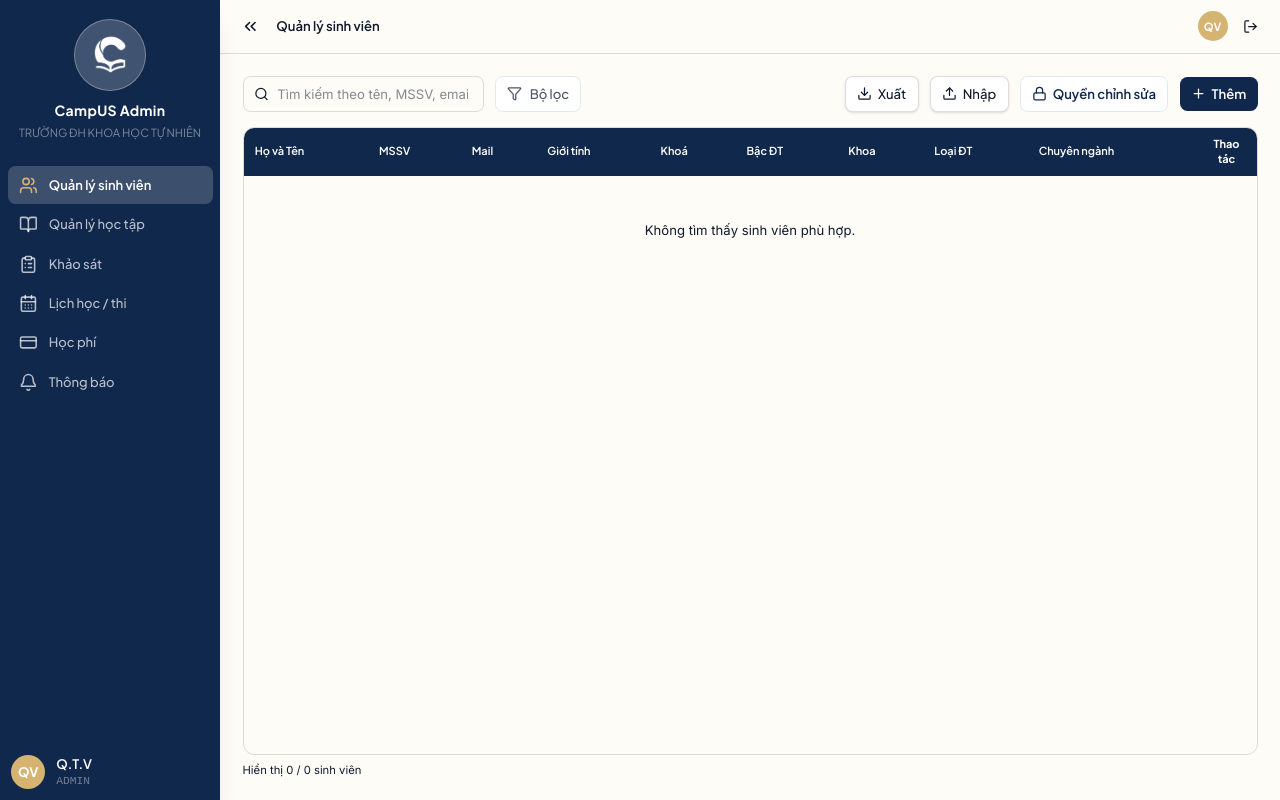
Unit Test: Admin Tuition Management (UC 2.23) › [TC_2.23_01]: Verify Tuition Statistics rendering
The image size is (1280, 800).
Click the button "Học phí": (110, 343) top-left (8, 324), bottom-right (212, 361)
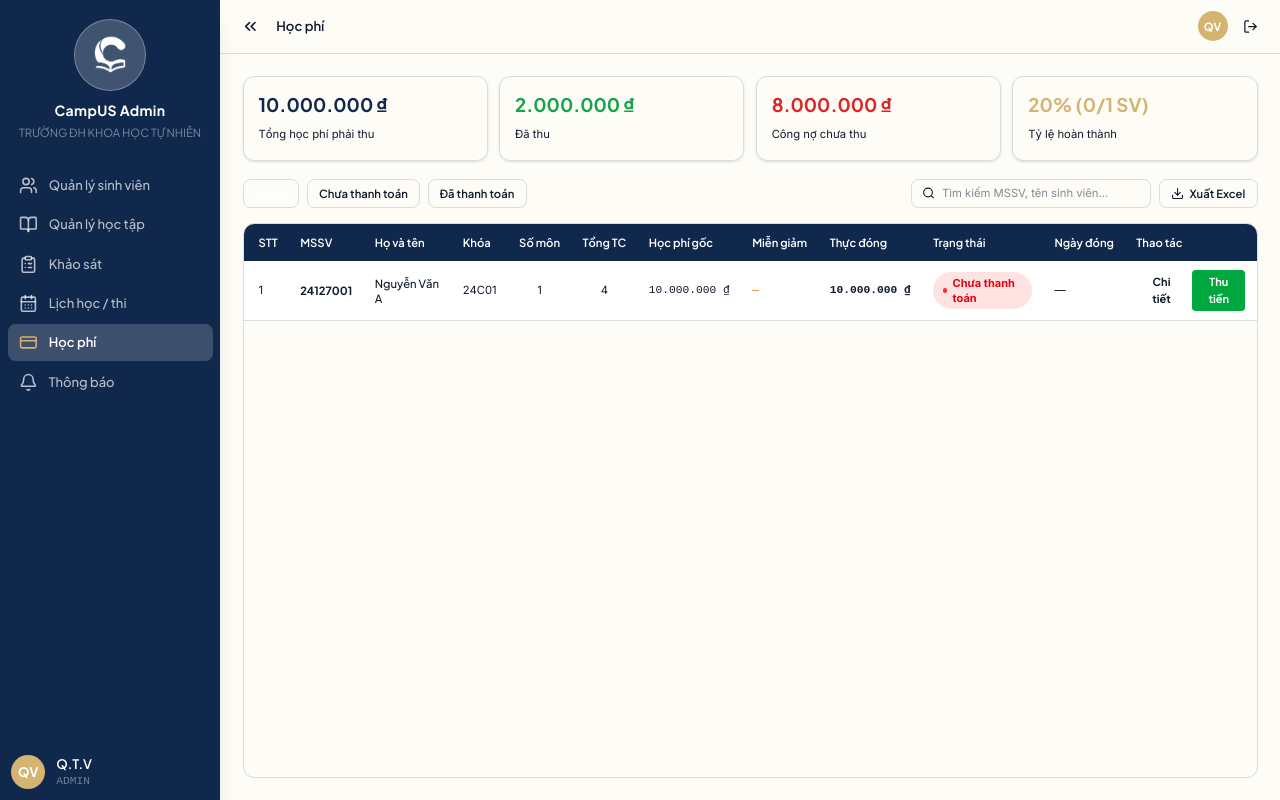
Expected: the text "10.000.000 ₫" is shown, top-left (258, 93), bottom-right (388, 116)
Expected: the text "2.000.000 ₫" is shown, top-left (515, 93), bottom-right (635, 116)
Expected: the text "8.000.000 ₫" is shown, top-left (772, 93), bottom-right (892, 116)
